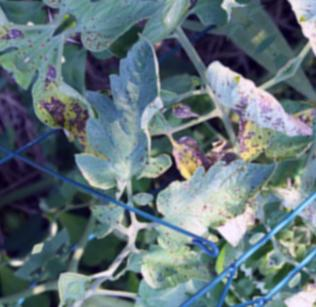Tomato Septoria leaf spot: (33, 26, 227, 219), (131, 117, 291, 272), (0, 33, 122, 160), (191, 40, 313, 165), (215, 72, 316, 193), (124, 218, 219, 307), (62, 0, 169, 67), (256, 138, 316, 245), (74, 189, 136, 251)
